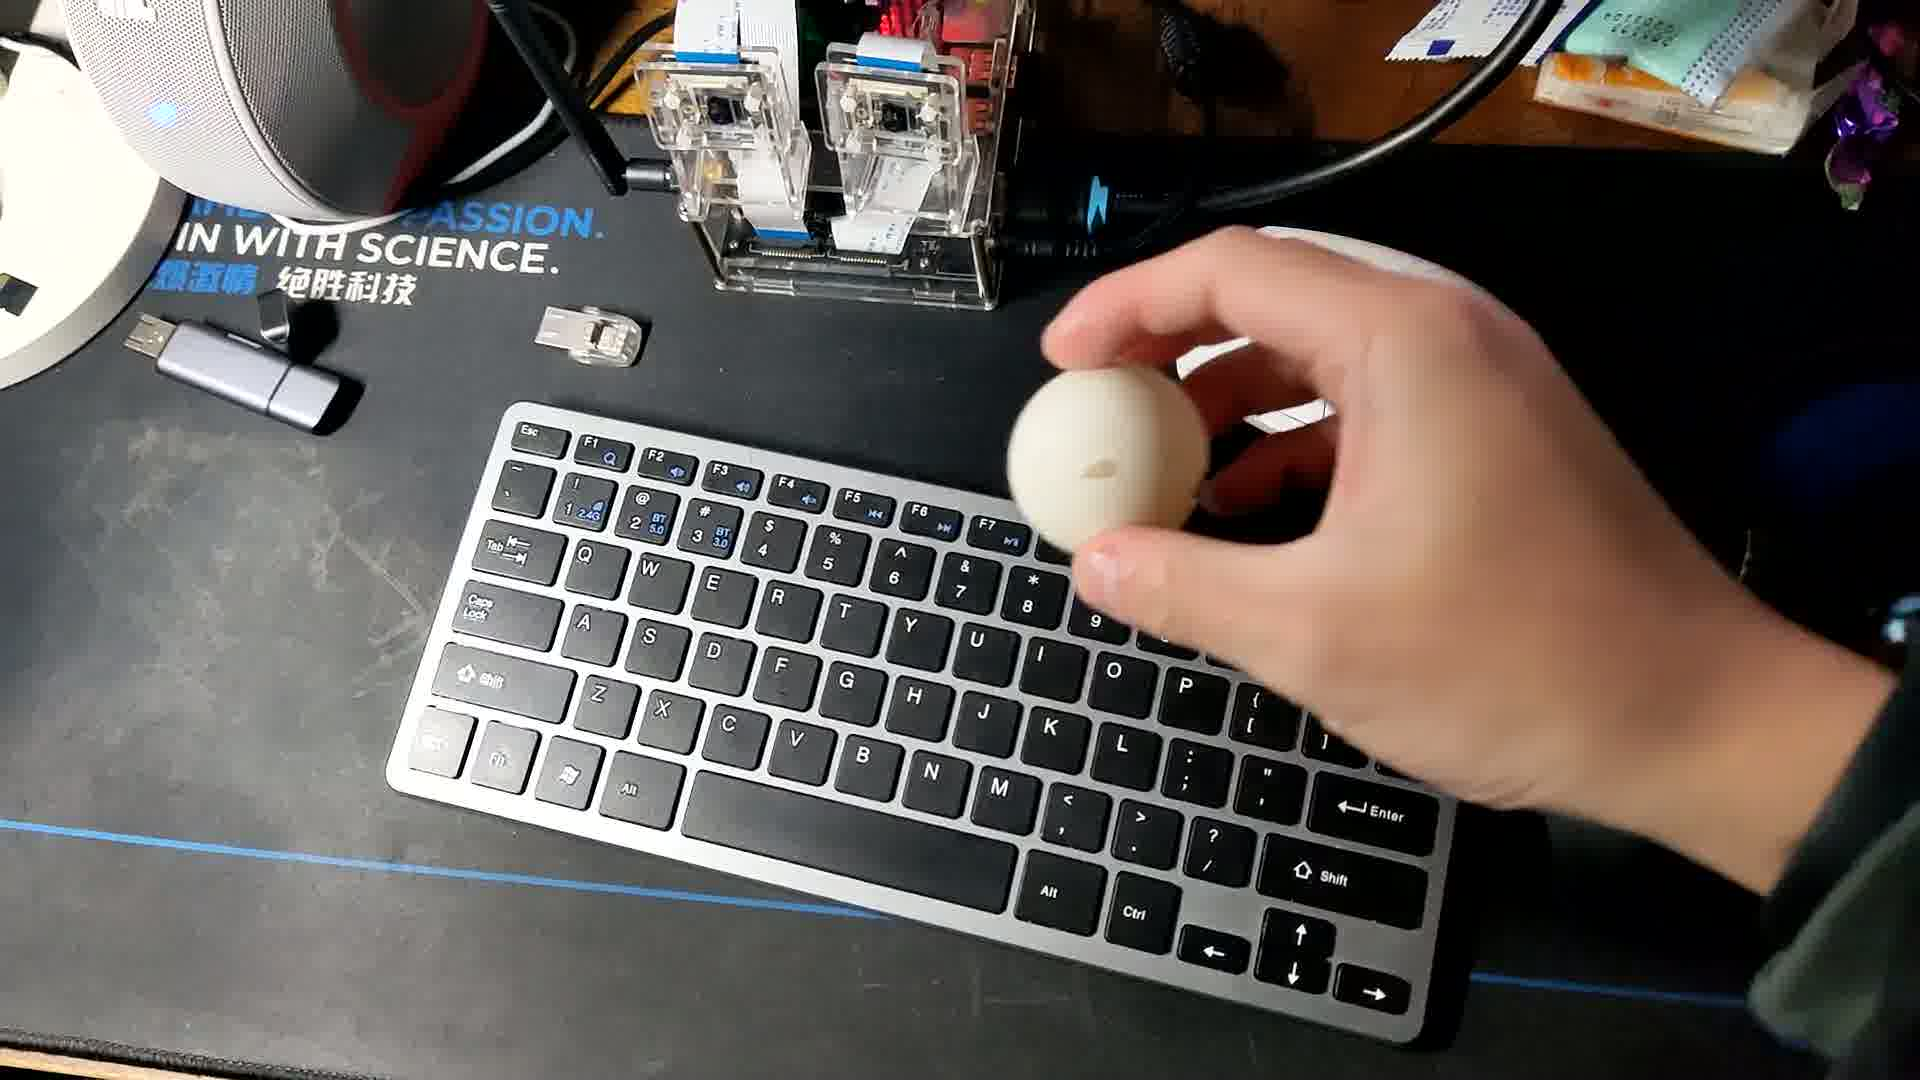Ball: (1009, 363, 1207, 547)
